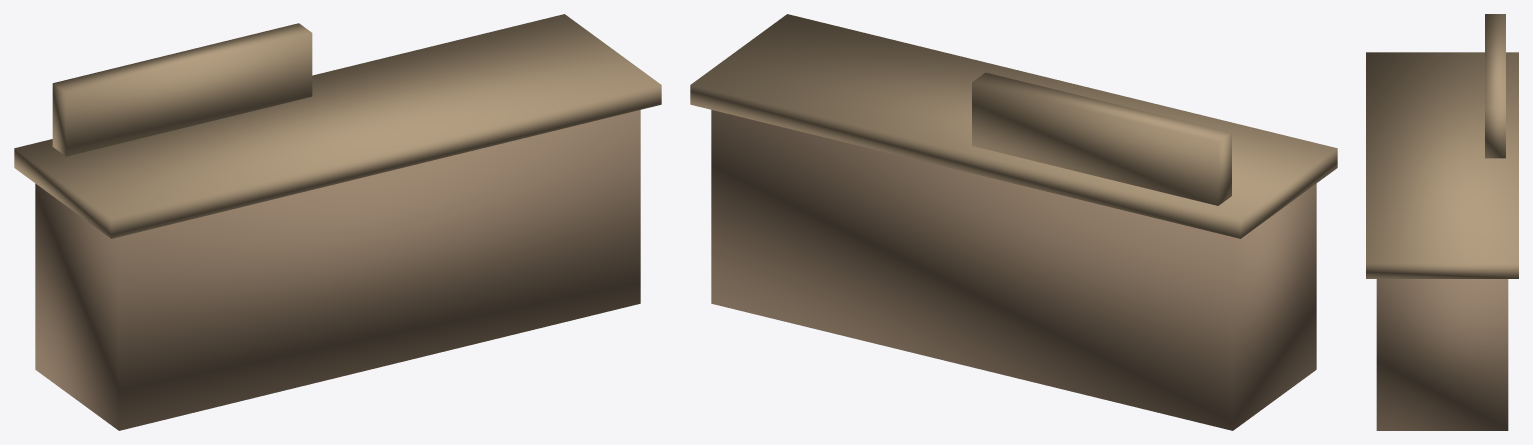
Rendered from security_desk__wide.glb.
The picture shows the model from 3 angles, left to right: view 1: azimuth 30°, elevation 25°; view 2: azimuth 150°, elevation 25°; view 3: azimuth 270°, elevation 25°; orthographic projection. The views are drawn at different scales.
Parts seen in each view (by area): view 1: world; view 2: world; view 3: world.
Boxes of the visible parts, x1,y1,x2,y2 form: world: (14,14,661,430); world: (690,14,1337,430); world: (1366,14,1518,430).
Size of the model in its own units: 2.36 by 1.16 by 0.72.
